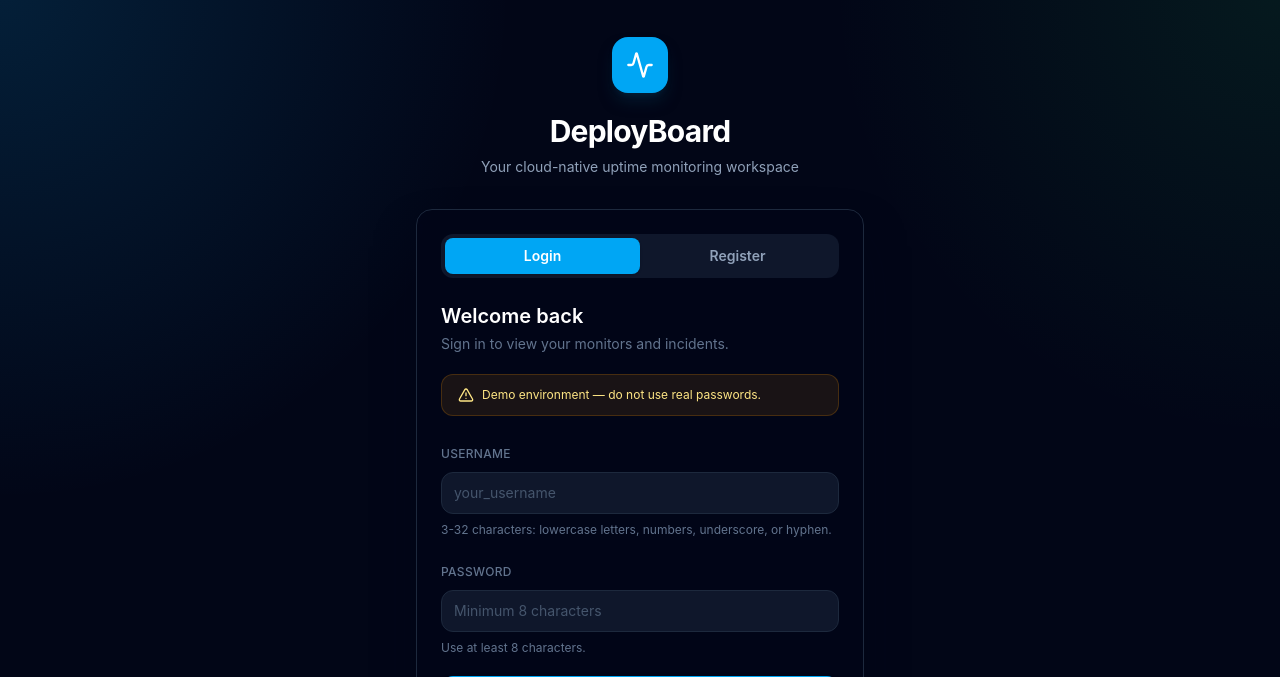
Test: authentication › shows Confirm password only in register mode
The width and height of the screenshot is (1280, 677).
Expected: the field labelled "Confirm password" is not shown
What coordinates should you click on to do the following:
click the button "Register"
I would click on:
 (738, 256)
Its box is top-left (640, 238), bottom-right (835, 274).
(page scrolled)
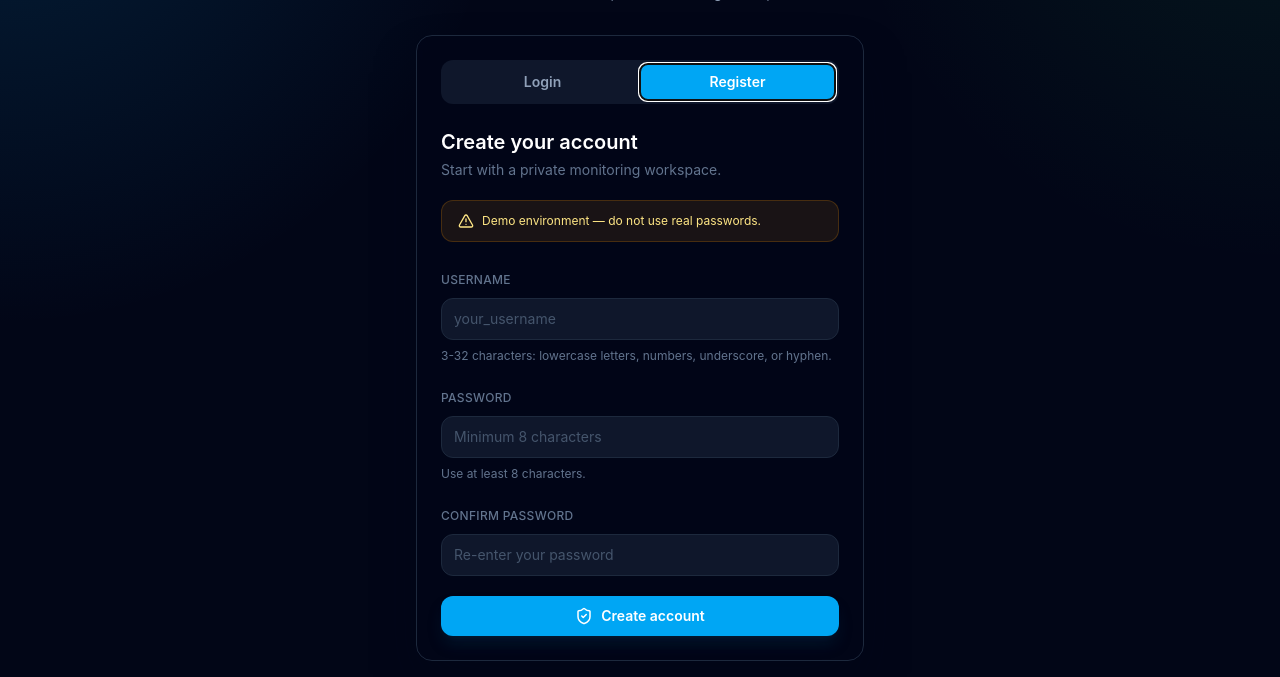
Result: the password field labelled "Confirm password" is shown at top-left (441, 534), bottom-right (839, 576)
